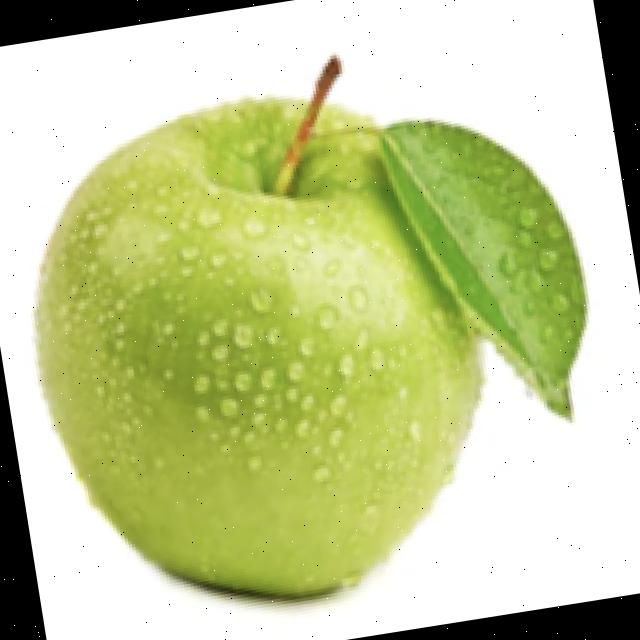apple: (27, 49, 591, 620)
